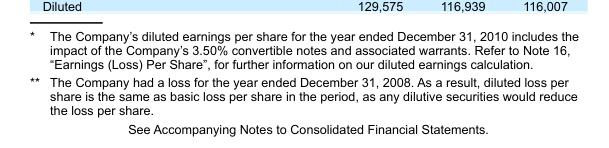table: (29, 28, 578, 116)
table column: (43, 28, 578, 116), (29, 28, 43, 116)
table row: (29, 28, 578, 72), (29, 72, 578, 116)
